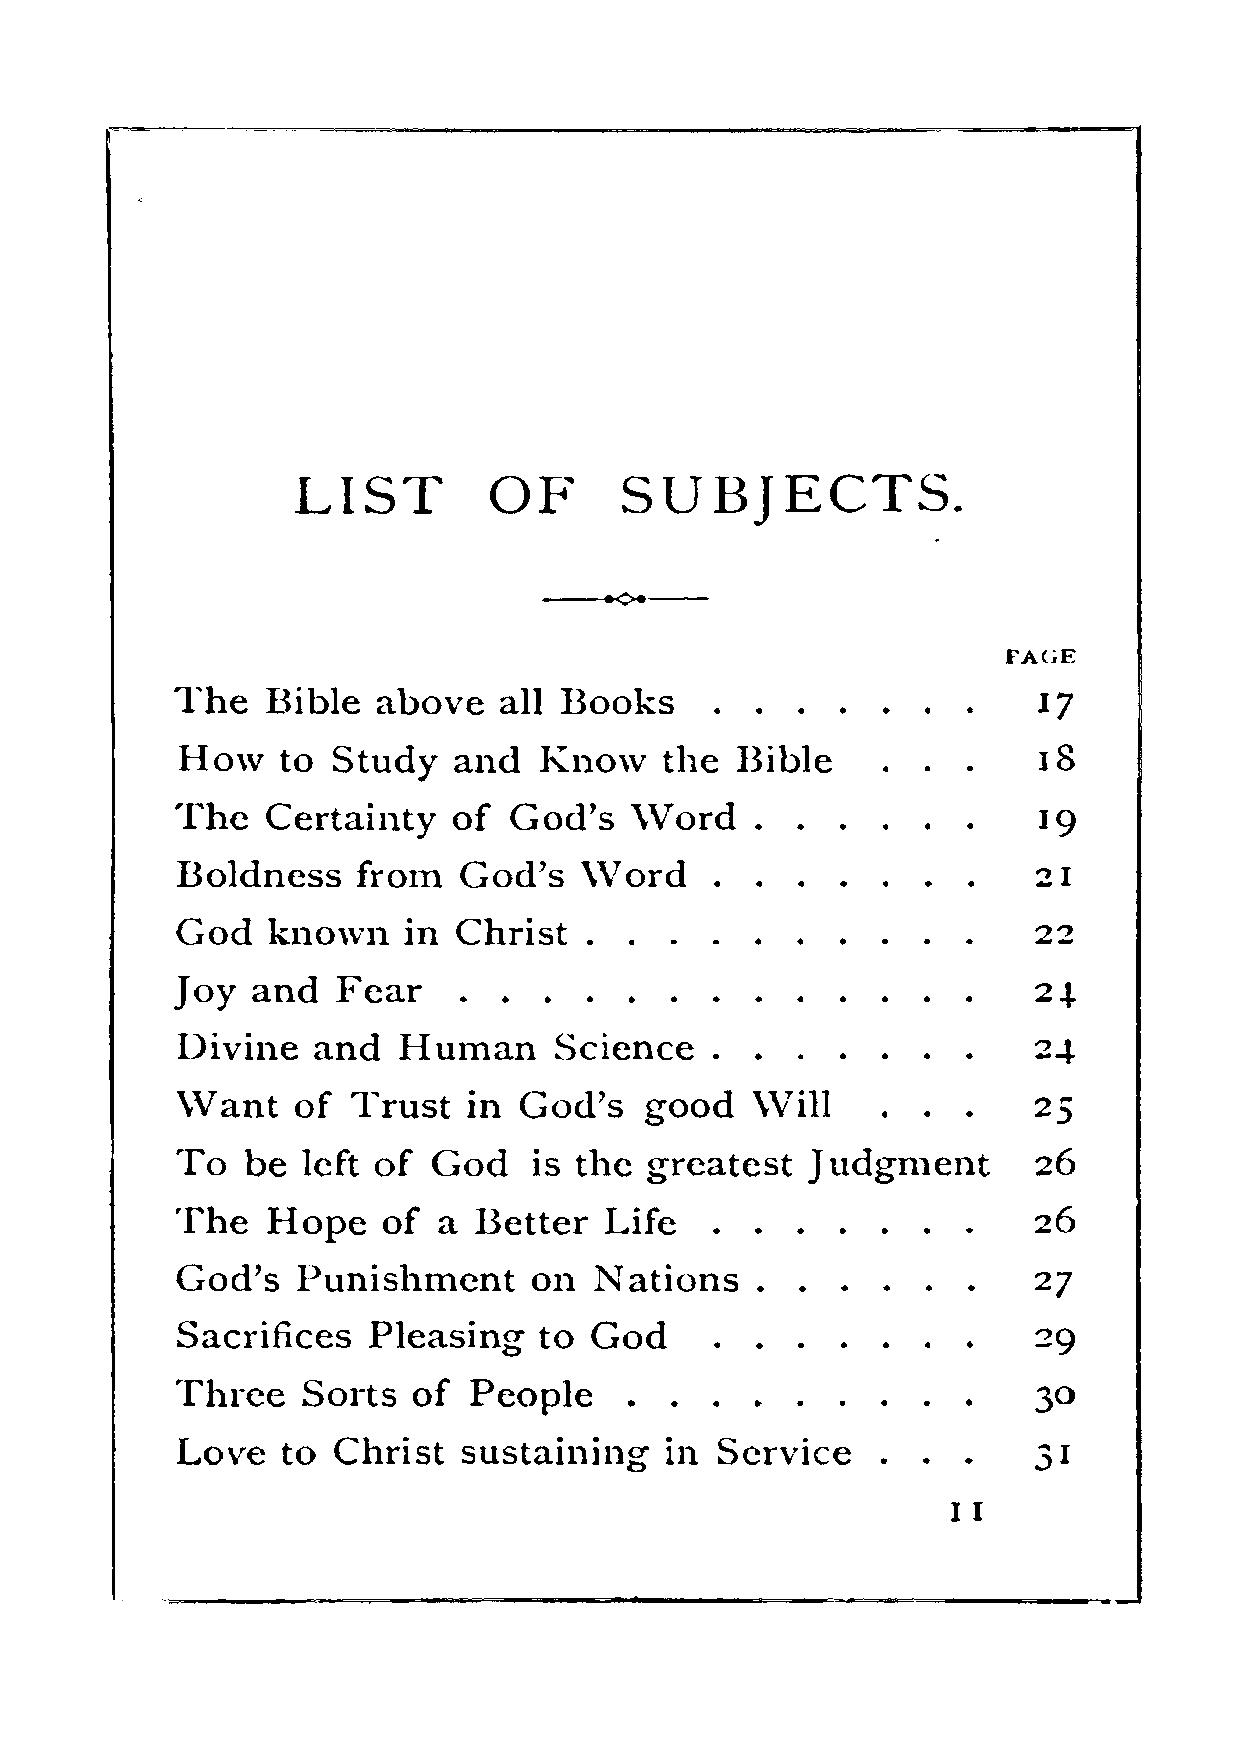TOC_chapter: (170, 1143, 989, 1184), (173, 738, 833, 782), (168, 796, 735, 840), (176, 1084, 831, 1122), (176, 1433, 854, 1468), (168, 676, 678, 717), (173, 1204, 683, 1244), (170, 1260, 741, 1295), (174, 858, 687, 892), (170, 1376, 595, 1417), (174, 1029, 696, 1063), (176, 1317, 670, 1351), (176, 915, 569, 949), (170, 973, 424, 1011)
TOC_pagenumber: (1032, 1377, 1078, 1418), (1029, 1198, 1078, 1236), (1031, 978, 1078, 1013), (1032, 1141, 1074, 1178), (1033, 1031, 1076, 1067), (1027, 1094, 1074, 1126), (1033, 735, 1075, 772), (1029, 1443, 1074, 1476), (1033, 684, 1075, 719), (1033, 805, 1076, 839), (1031, 1264, 1071, 1299), (1033, 1325, 1074, 1359), (1031, 917, 1075, 945), (1032, 862, 1074, 888)
chapter: (290, 462, 962, 519)
